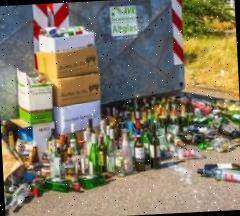glass: (0, 89, 240, 197)
